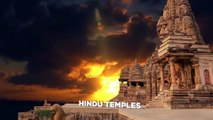Hindu Temple: (120, 1, 213, 105)
